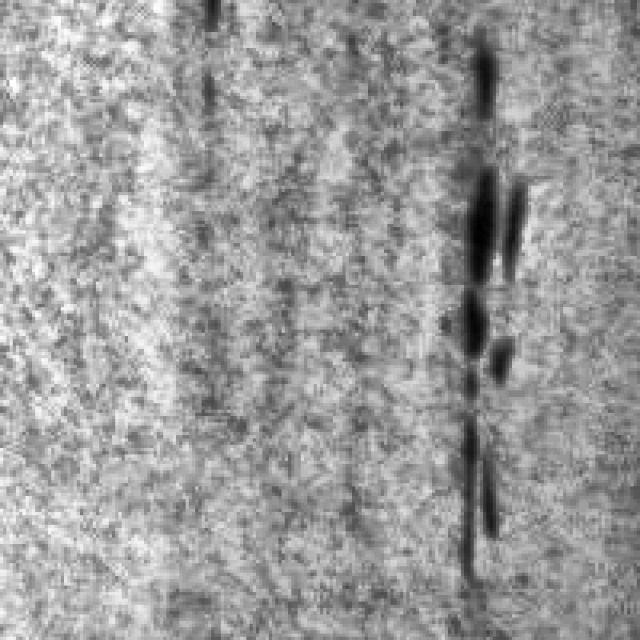Patches: (448, 282, 528, 592), (444, 153, 534, 284), (454, 32, 502, 122)
